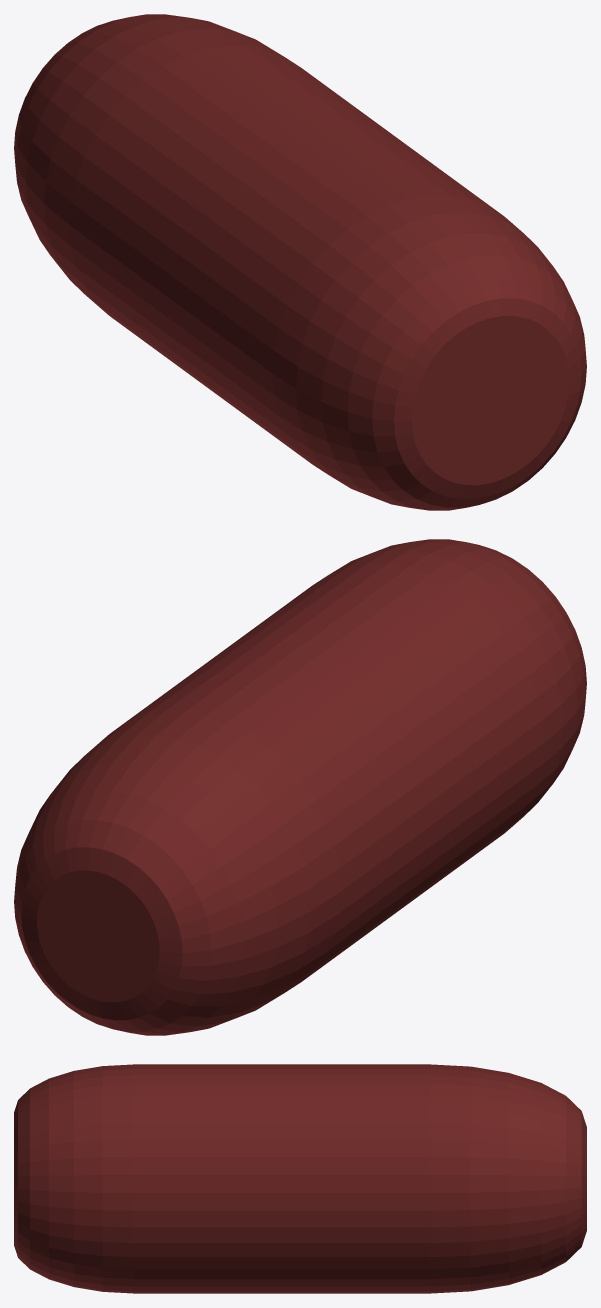
The model's file is sausage.fbx.
The picture shows the model from 3 angles, top to bottom: view 1: azimuth 30°, elevation 25°; view 2: azimuth 150°, elevation 25°; view 3: azimuth 270°, elevation 25°; orthographic projection. The views are drawn at different scales.
Parts seen in each view (by area): view 1: Cylinder; view 2: Cylinder; view 3: Cylinder.
Part boxes in pixels (bbox=[...]): Cylinder: bbox=[14, 14, 586, 510]; Cylinder: bbox=[14, 539, 586, 1035]; Cylinder: bbox=[14, 1064, 586, 1293].
Size of the model in its own units: 200 by 200 by 500.
